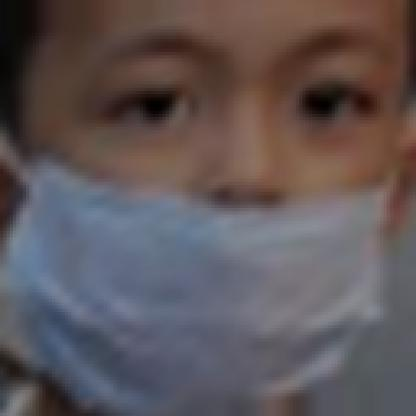mask_weared_incorrect: (23, 7, 413, 413)
